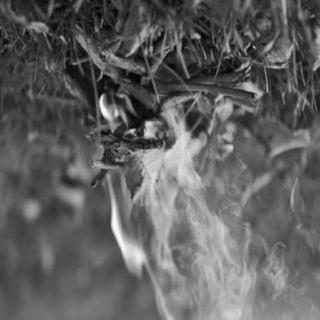Fire: (48, 80, 268, 318)
